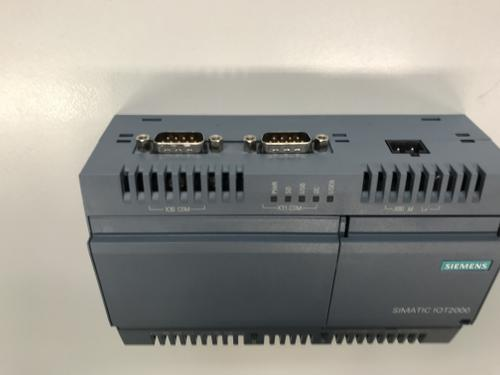device: (78, 113, 500, 345)
